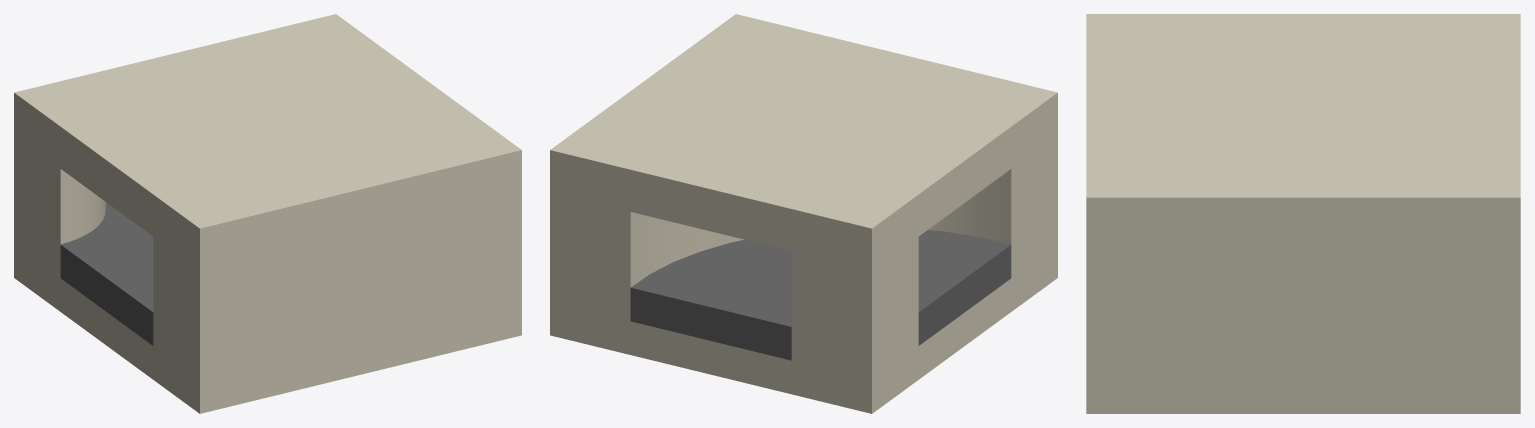
File: tile250.fbx
The picture shows the model from 3 angles, left to right: view 1: azimuth 30°, elevation 25°; view 2: azimuth 150°, elevation 25°; view 3: azimuth 270°, elevation 25°; orthographic projection. The views are drawn at different scales.
Visible parts, largest first — view 1: tile250; view 2: tile250; view 3: tile250.
Boxes of the visible parts, x1,y1,x2,y2 form: tile250: (14,14,521,413); tile250: (550,14,1057,413); tile250: (1086,14,1520,413).
Bounding box in the file's own units: 10 × 5.5 × 10.
